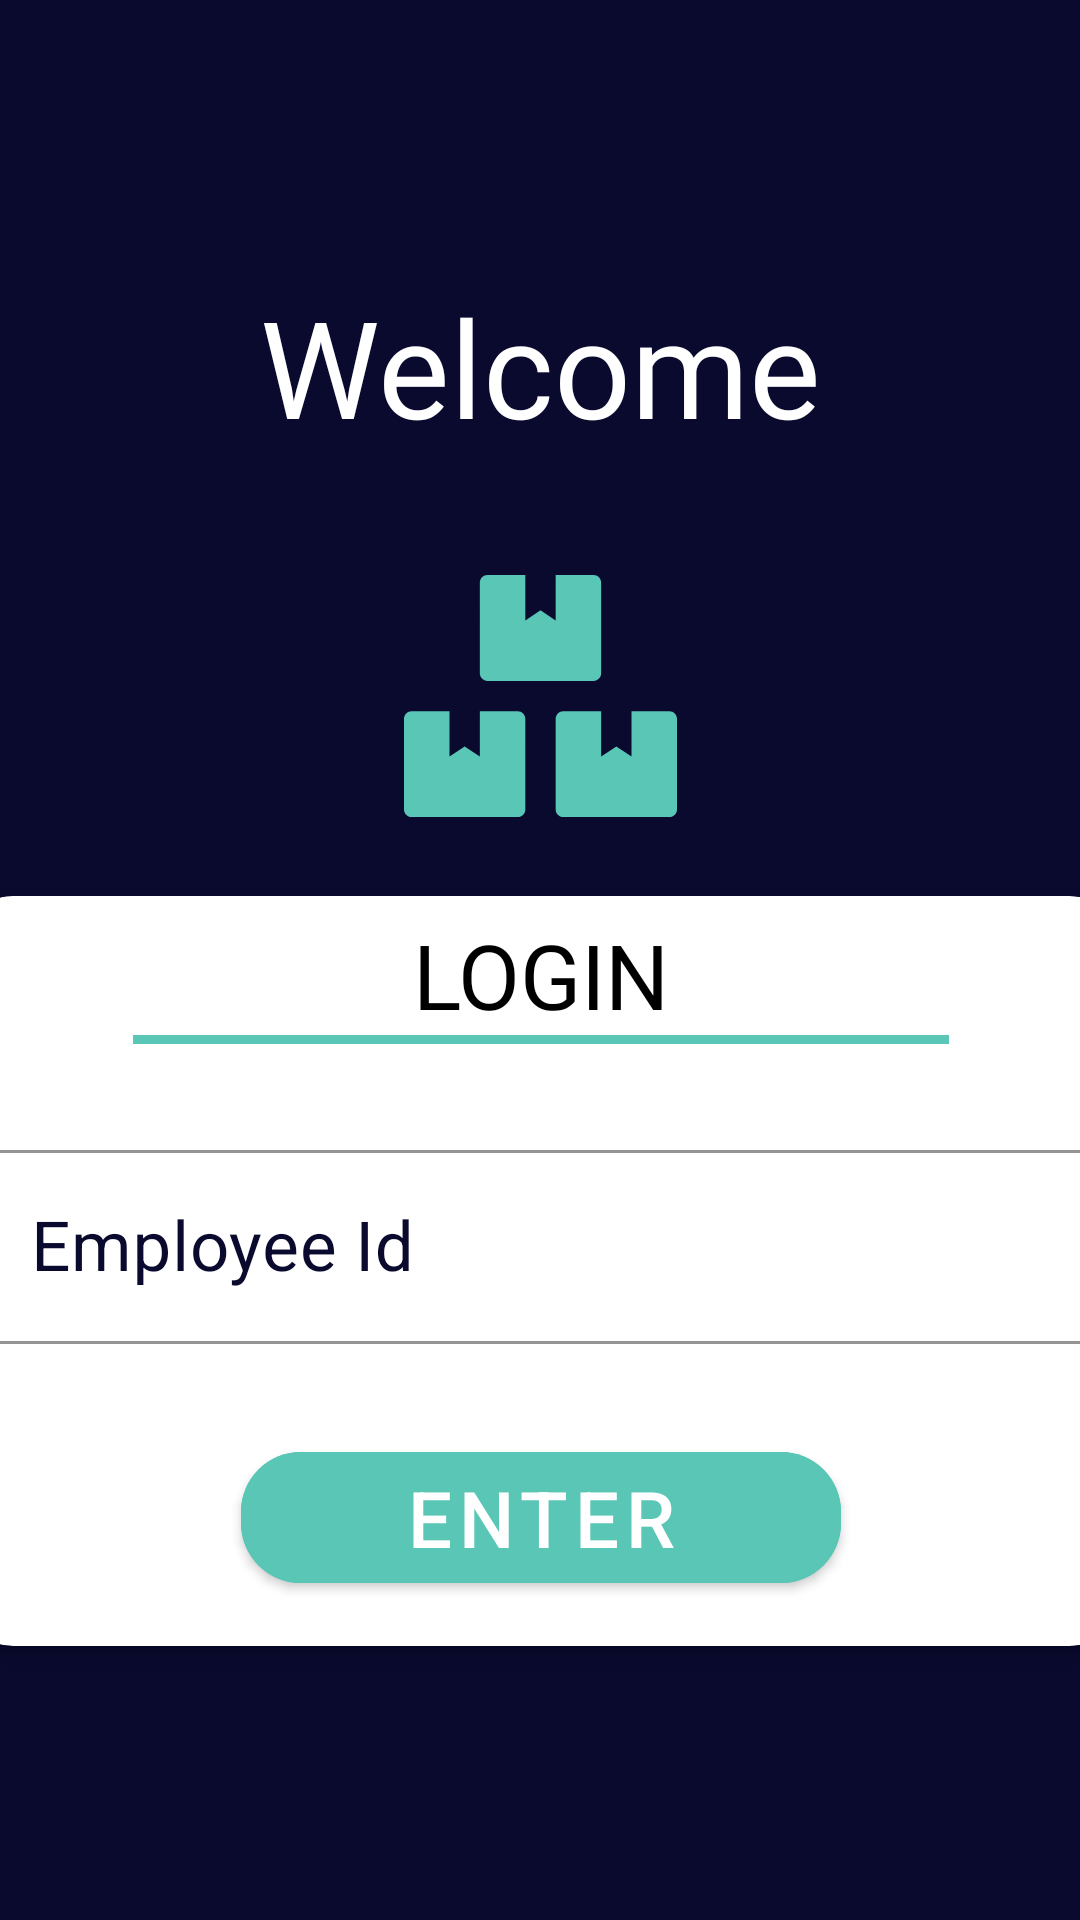

Named icons in this screenshot (1080x1920) and their bounding boxes, (x1, y1, x2, y2):
boxes: (404, 575, 677, 817)
